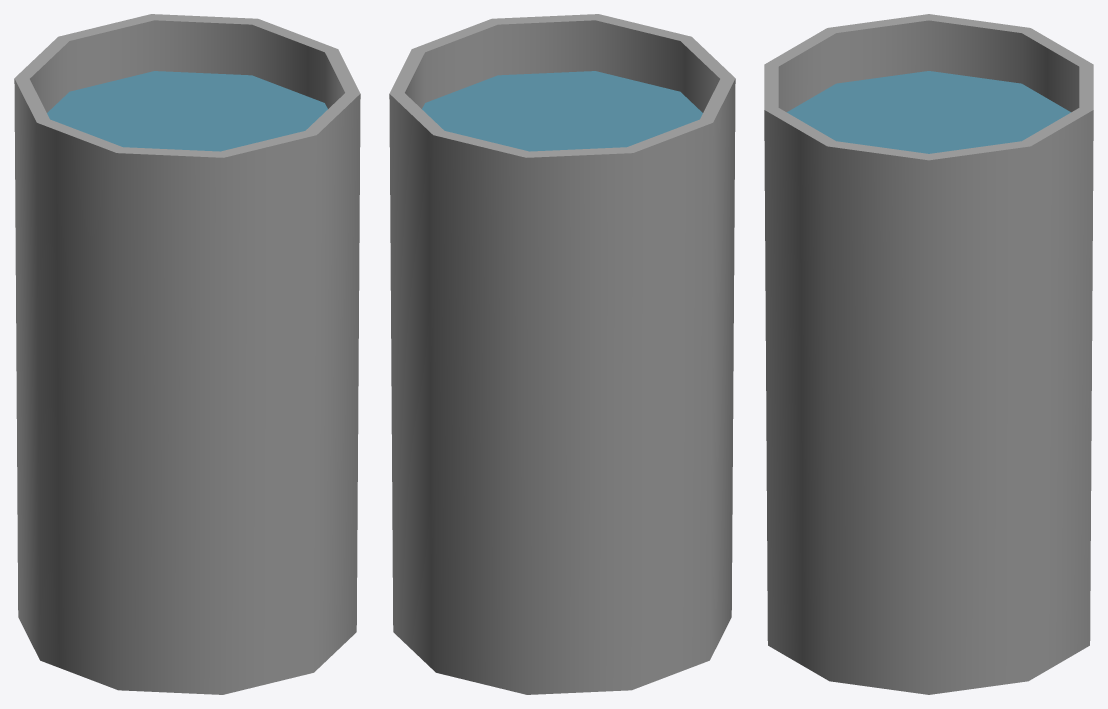
File: glass2.fbx
The picture shows the model from 3 angles, left to right: view 1: azimuth 30°, elevation 25°; view 2: azimuth 150°, elevation 25°; view 3: azimuth 270°, elevation 25°; orthographic projection.
Parts seen in each view (by area): view 1: polySurface27, polySurface28; view 2: polySurface27, polySurface28; view 3: polySurface27, polySurface28.
Part boxes in pixels (x1,y1,x2,y2): polySurface27: (14,14,360,694); polySurface28: (47,71,327,151); polySurface27: (389,14,735,694); polySurface28: (422,71,702,151); polySurface27: (764,14,1093,694); polySurface28: (787,71,1070,153).
Bounding box in the file's own units: 11.24 × 19.2 × 10.69.
